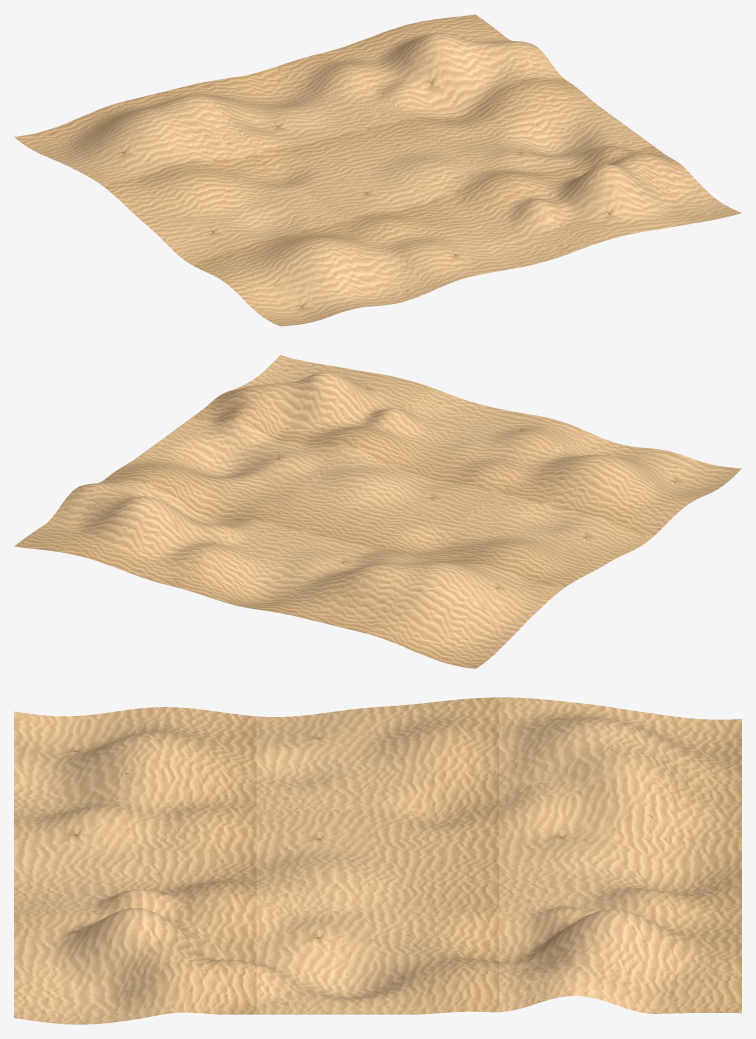
The model's file is DesertDunes.fbx.
3 renders of one model, top to bottom at view 1: azimuth 30°, elevation 25°; view 2: azimuth 150°, elevation 25°; view 3: azimuth 270°, elevation 25°, orthographic. The views are drawn at different scales.
Visible parts, largest first — view 1: pPlane1; view 2: pPlane1; view 3: pPlane1.
Boxes of the visible parts, box(x1,y1,x2,y2) form: pPlane1: box(14, 14, 741, 326); pPlane1: box(14, 355, 741, 668); pPlane1: box(14, 697, 741, 1024).
Size of the model in its own units: 26.46 by 2.7 by 26.46.
